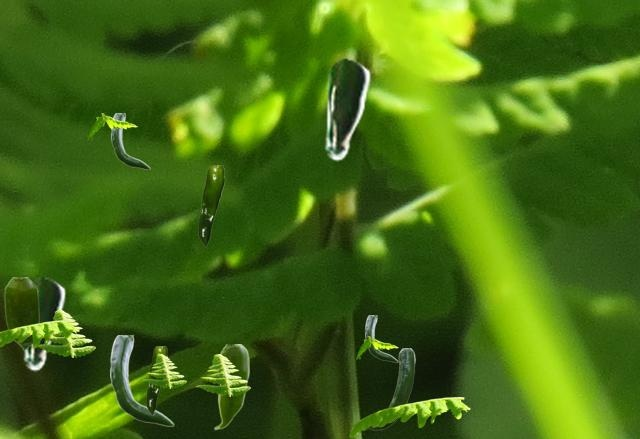green_chili: (110, 335, 173, 425), (322, 57, 370, 160), (21, 276, 65, 370), (367, 348, 414, 429), (213, 344, 248, 429), (4, 277, 38, 349), (111, 113, 149, 168), (198, 165, 223, 246), (365, 315, 397, 361), (146, 346, 166, 414)
